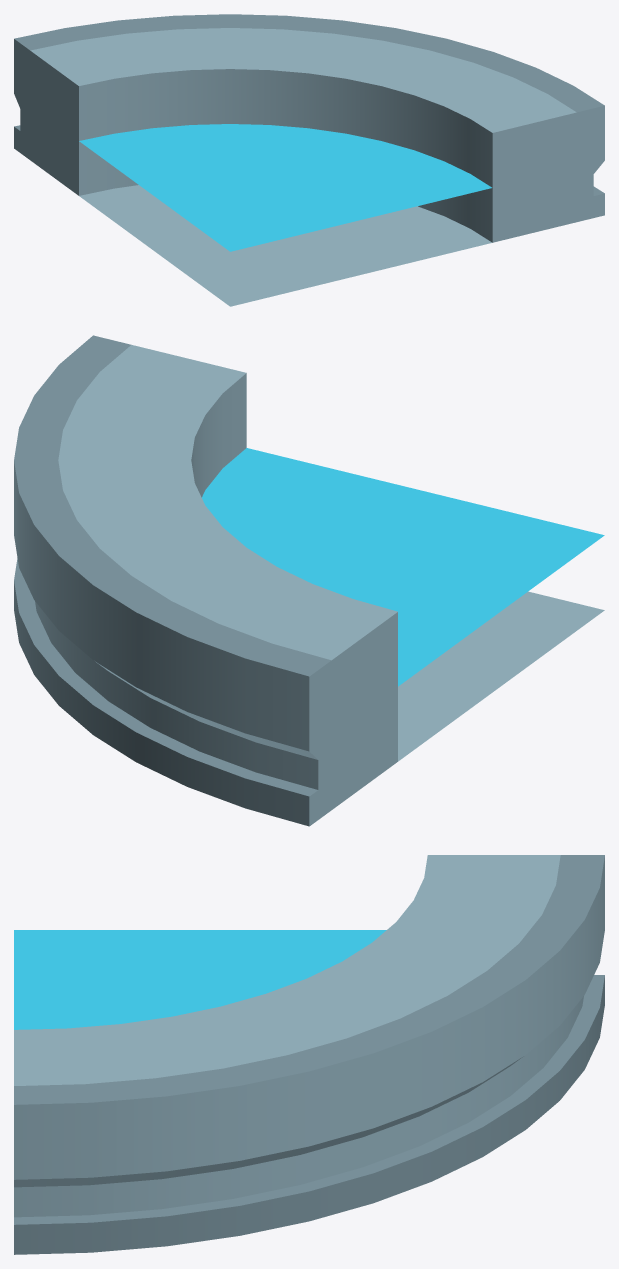
File: fountainCurved.dae
The picture shows the model from 3 angles, top to bottom: view 1: azimuth 30°, elevation 25°; view 2: azimuth 150°, elevation 25°; view 3: azimuth 270°, elevation 25°; orthographic projection. The views are drawn at different scales.
Parts seen in each view (by area): view 1: fountainCurved; view 2: fountainCurved; view 3: fountainCurved.
Part boxes in pixels (x1,y1,x2,y2): fountainCurved: [14, 14, 604, 306]; fountainCurved: [14, 335, 604, 826]; fountainCurved: [14, 855, 604, 1254].
Bounding box in the file's own units: 1 × 0.28 × 1.
